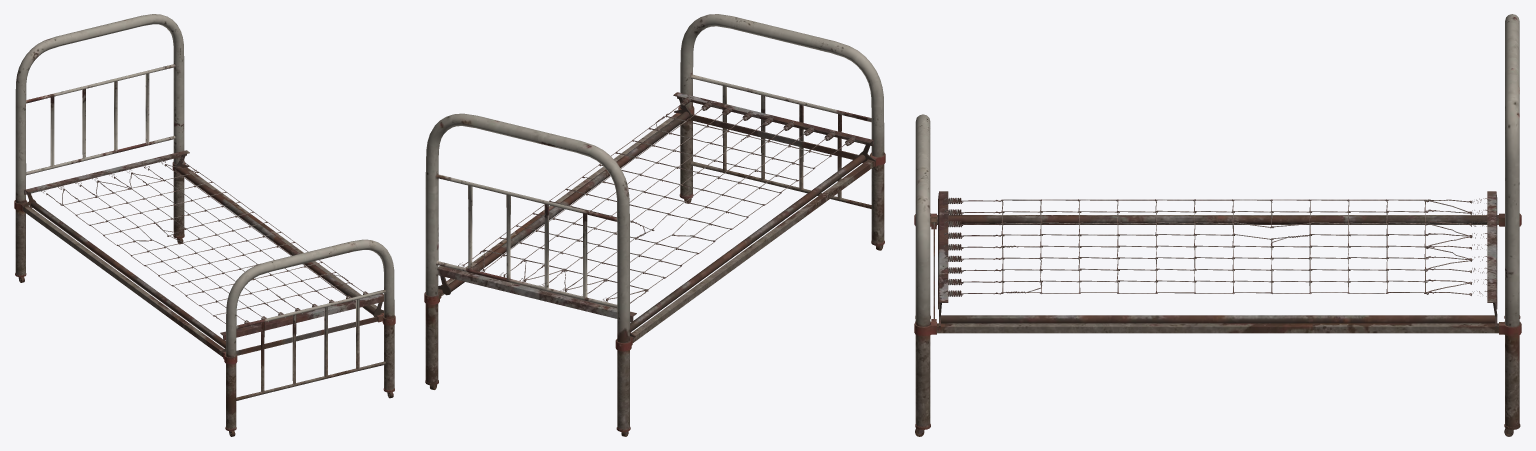
The model's file is ph_old_bed_frame.glb.
3 views of the same model, side by side, from view 1: azimuth 30°, elevation 25°; view 2: azimuth 150°, elevation 25°; view 3: azimuth 270°, elevation 25° (orthographic). The views are drawn at different scales.
Visible parts, largest first — view 1: old_bed_frame; view 2: old_bed_frame; view 3: old_bed_frame.
Part boxes in pixels (bbox=[...]): old_bed_frame: bbox=[14, 14, 395, 436]; old_bed_frame: bbox=[424, 14, 885, 436]; old_bed_frame: bbox=[914, 14, 1521, 436].
Bounding box in the file's own units: 0.9047 × 1.2 × 2.
Materials: 1 (1 with a texture image).
